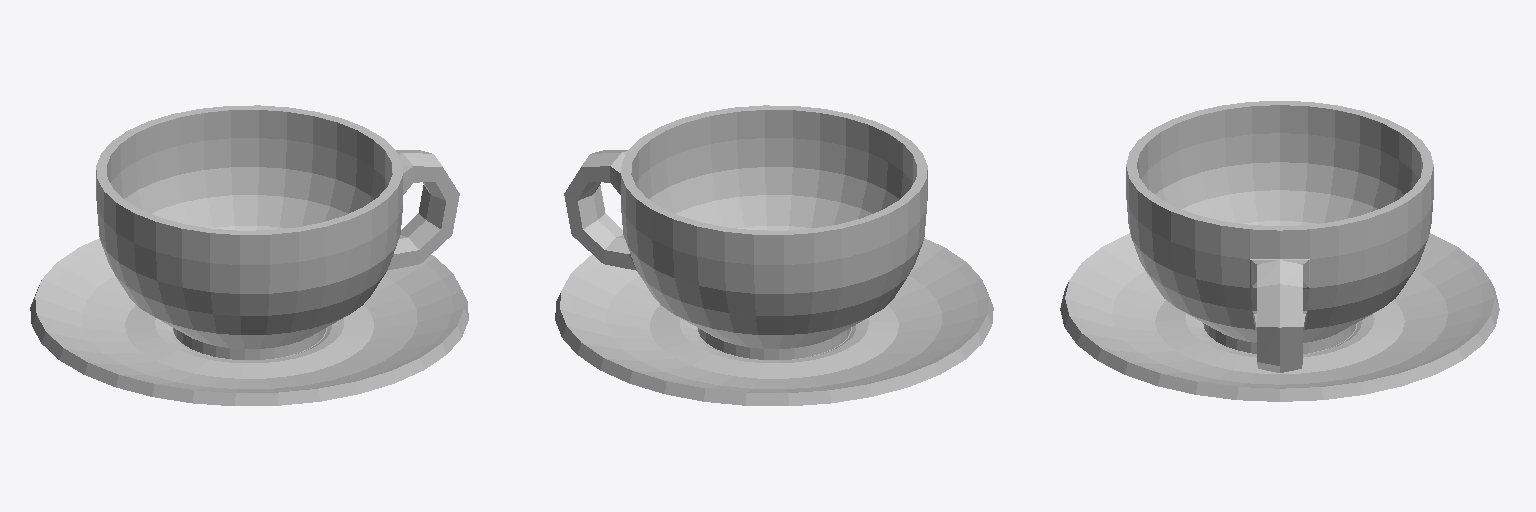
File: coffee_cup.obj
3 renders of one model, left to right at view 1: azimuth 30°, elevation 25°; view 2: azimuth 150°, elevation 25°; view 3: azimuth 270°, elevation 25°, orthographic.
Visible parts, largest first — view 1: cup, plate; view 2: cup, plate; view 3: cup, plate.
Part boxes in pixels (x1,y1,x2,y2): cup: (96, 105, 459, 359); plate: (30, 238, 468, 405); cup: (564, 105, 927, 359); plate: (555, 238, 993, 405); cup: (1126, 101, 1433, 372); plate: (1060, 233, 1499, 401).
Size of the model in its own units: 3.01 by 1.28 by 2.91.